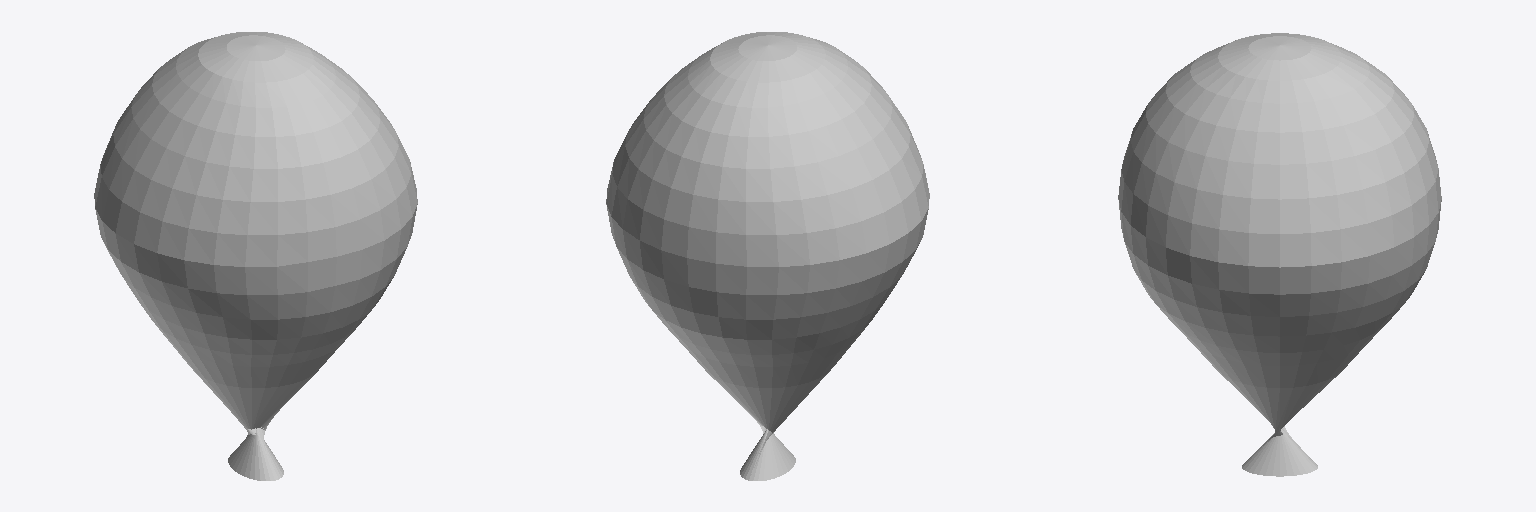
The model's file is balloon.obj.
3 views of the same model, side by side, from view 1: azimuth 30°, elevation 25°; view 2: azimuth 150°, elevation 25°; view 3: azimuth 270°, elevation 25° (orthographic).
Parts seen in each view (by area): view 1: Sphere; view 2: Sphere; view 3: Sphere.
Boxes of the visible parts, x1,y1,x2,y2 form: Sphere: [94, 32, 417, 480]; Sphere: [606, 32, 929, 480]; Sphere: [1118, 33, 1441, 476].
Size of the model in its own units: 2.77 by 3.96 by 2.76.